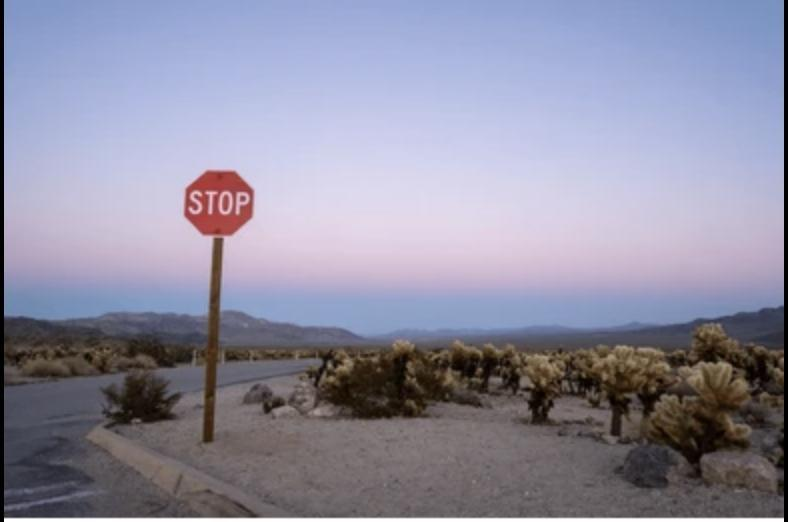Stop-Sign: (185, 170, 254, 236)
